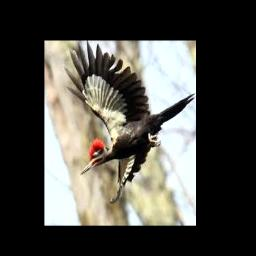Woodpecker: (65, 40, 195, 202)
